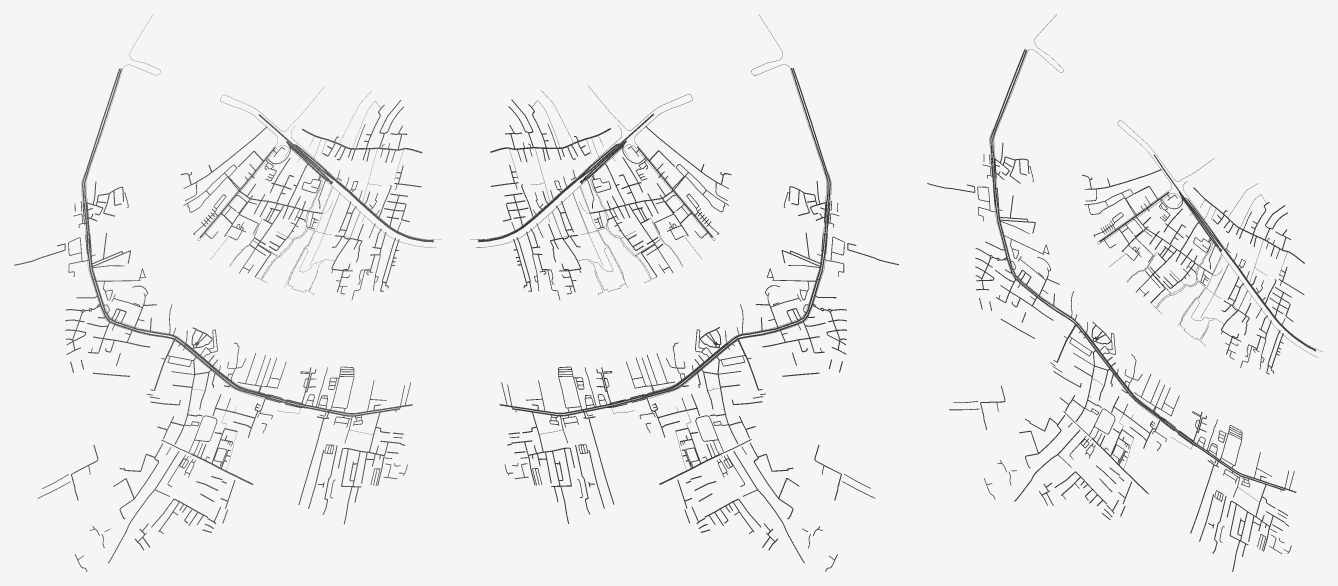
The model's file is roads_2_4.obj.
3 views of the same model, side by side, from view 1: azimuth 30°, elevation 25°; view 2: azimuth 150°, elevation 25°; view 3: azimuth 330°, elevation 25° (orthographic). The views are drawn at different scales.
Size of the model in its own units: 2487 by 3090 by 12.57.
5 materials, 5 textured.
